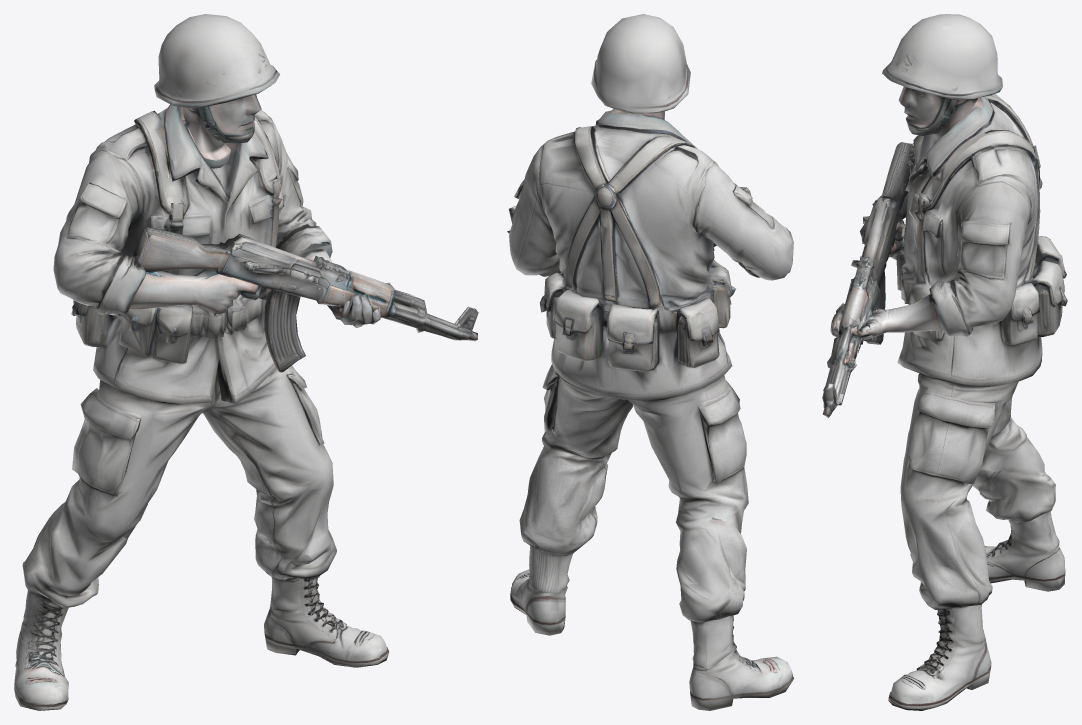
3 views of the same model, side by side, from view 1: azimuth 30°, elevation 25°; view 2: azimuth 150°, elevation 25°; view 3: azimuth 270°, elevation 25° (orthographic). The views are drawn at different scales.
Visible parts, largest first — view 1: tripo_part_0, tripo_part_3, tripo_part_2, tripo_part_1, tripo_part_5, tripo_part_8, tripo_part_4, tripo_part_7, tripo_part_6, tripo_part_10, tripo_part_9; view 2: tripo_part_0, tripo_part_3, tripo_part_2, tripo_part_8, tripo_part_5, tripo_part_7, tripo_part_6, tripo_part_4; view 3: tripo_part_0, tripo_part_2, tripo_part_6, tripo_part_8, tripo_part_1, tripo_part_4, tripo_part_3, tripo_part_7, tripo_part_9, tripo_part_10.
Boxes of the visible parts, x1,y1,x2,y2 form: tripo_part_0: (71,104,284,406); tripo_part_3: (22,380,214,607); tripo_part_2: (203,365,336,581); tripo_part_1: (132,226,478,372); tripo_part_5: (53,144,145,315); tripo_part_8: (154,14,279,108); tripo_part_4: (264,576,389,667); tripo_part_7: (14,591,68,710); tripo_part_6: (269,116,390,327); tripo_part_10: (129,269,258,316); tripo_part_9: (183,94,261,168); tripo_part_0: (539,109,736,400); tripo_part_3: (628,375,748,623); tripo_part_2: (519,364,632,556); tripo_part_8: (591,14,690,113); tripo_part_5: (681,162,793,280); tripo_part_7: (689,616,793,710); tripo_part_6: (509,145,561,276); tripo_part_4: (510,545,572,635); tripo_part_0: (892,94,1067,386); tripo_part_2: (900,373,1018,609); tripo_part_6: (830,175,1031,340); tripo_part_8: (882,14,1002,99); tripo_part_1: (822,142,911,417); tripo_part_4: (888,604,991,710); tripo_part_3: (972,397,1055,522); tripo_part_7: (984,511,1065,591); tripo_part_9: (898,86,977,144); tripo_part_10: (888,192,908,257).
Size of the model in its own units: 0.5992 by 1 by 0.3564.
11 materials, 11 textured.
